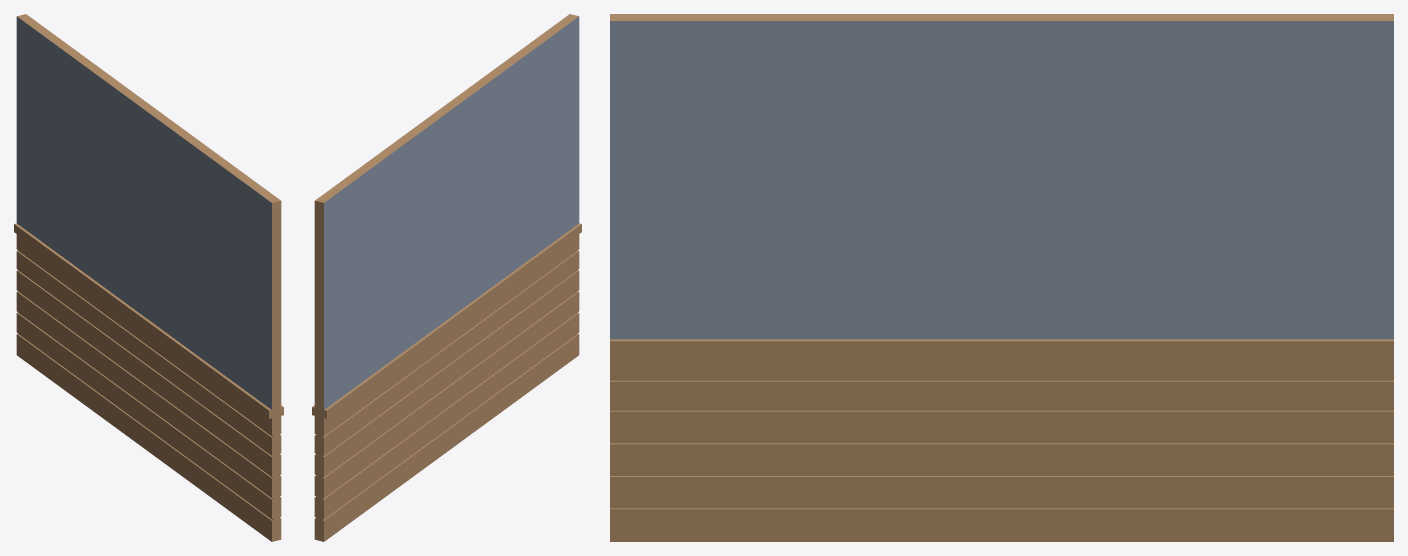
The model's file is Int_ Wall-col.glb.
The picture shows the model from 3 angles, left to right: view 1: azimuth 30°, elevation 25°; view 2: azimuth 150°, elevation 25°; view 3: azimuth 270°, elevation 25°; orthographic projection. The views are drawn at different scales.
Parts seen in each view (by area): view 1: Int_ Wall-col; view 2: Int_ Wall-col; view 3: Int_ Wall-col.
Part boxes in pixels (<box>): Int_ Wall-col: <box>14,14,283,541</box>; Int_ Wall-col: <box>312,14,581,541</box>; Int_ Wall-col: <box>610,14,1393,541</box>.
Bounding box in the file's own units: 0.1 × 2.2 × 3.
